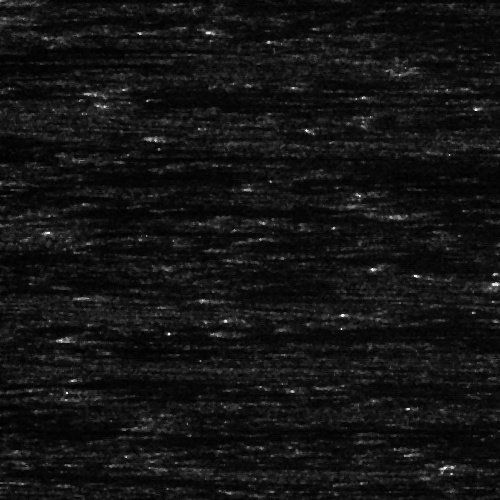object: (27, 334, 120, 341), (179, 328, 262, 335), (0, 175, 45, 184), (151, 131, 192, 138), (58, 154, 111, 159), (478, 454, 500, 465), (0, 56, 17, 67), (69, 90, 122, 93), (247, 180, 258, 191), (0, 43, 13, 52), (378, 211, 409, 214)
shadow: (73, 334, 358, 341), (220, 328, 500, 335), (0, 56, 175, 67), (4, 175, 216, 184), (84, 154, 376, 159), (0, 43, 129, 52), (253, 180, 328, 191), (96, 90, 315, 93), (172, 131, 246, 138), (0, 156, 28, 167), (0, 51, 33, 60), (393, 211, 472, 214)
